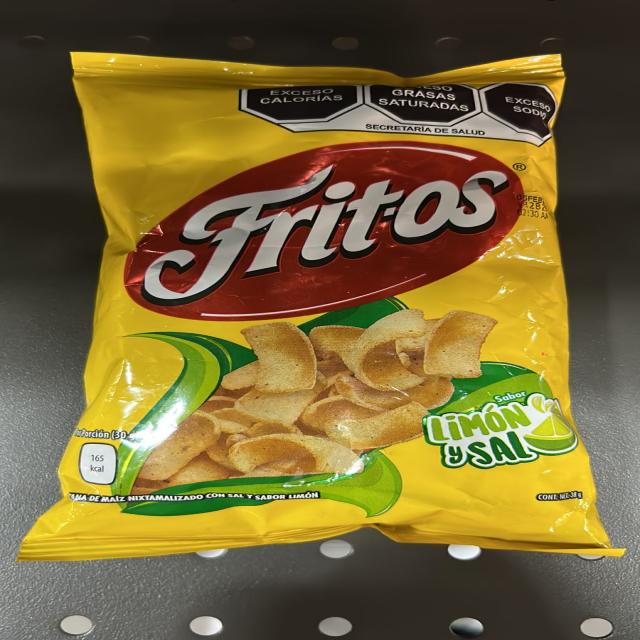fritosLimon: (97, 59, 560, 552)
